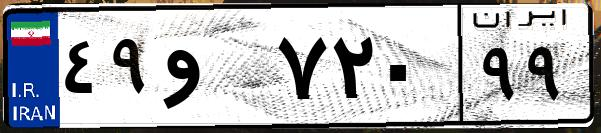0: (385, 28, 445, 110)
2: (330, 28, 385, 110)
4: (57, 26, 110, 100)
7: (270, 28, 330, 110)
9: (475, 38, 525, 113), (525, 38, 570, 115), (110, 28, 158, 98)
و: (158, 20, 270, 120)
